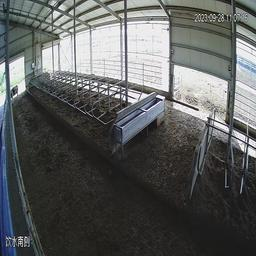cow: (6, 82, 21, 105)
